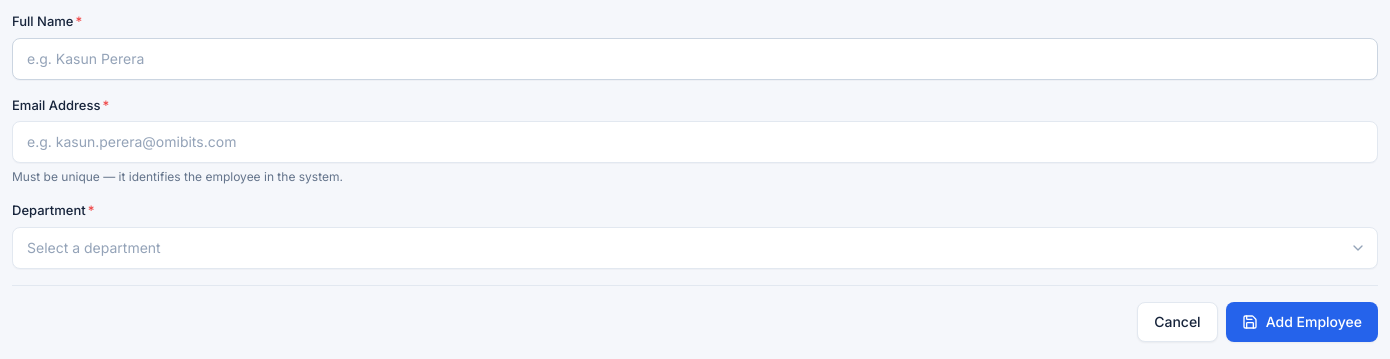
Test: EmployeeForm validation › shows the API error for a duplicate email address
Step 1. Type "Duplicate Person" into the field labelled "Full Name*" → x=695, y=58, box [12,38,1378,80]
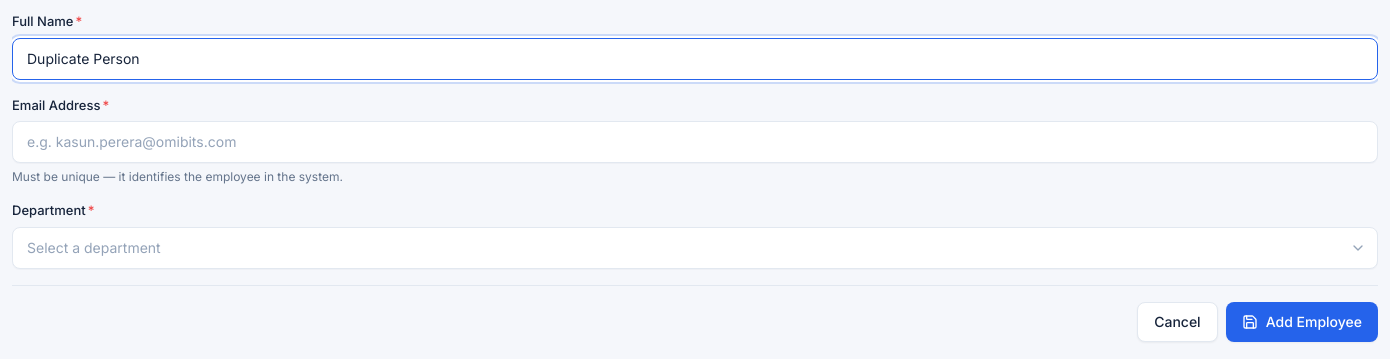
Step 2. Type "dup@example.com" into the field labelled "Email Address*" → x=695, y=142, box [12,121,1378,163]
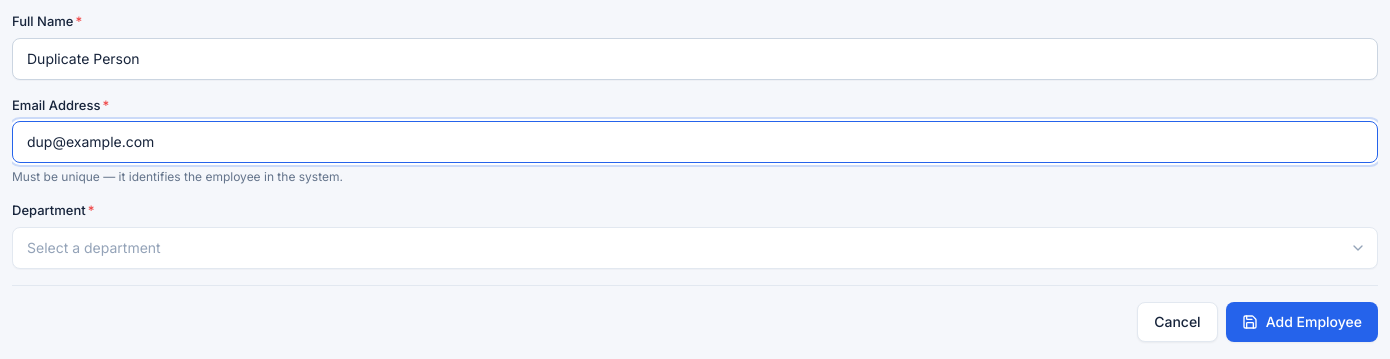
Step 3. Select "IT" in the dropdown labelled "Department*" → x=695, y=248, box [12,226,1378,268]
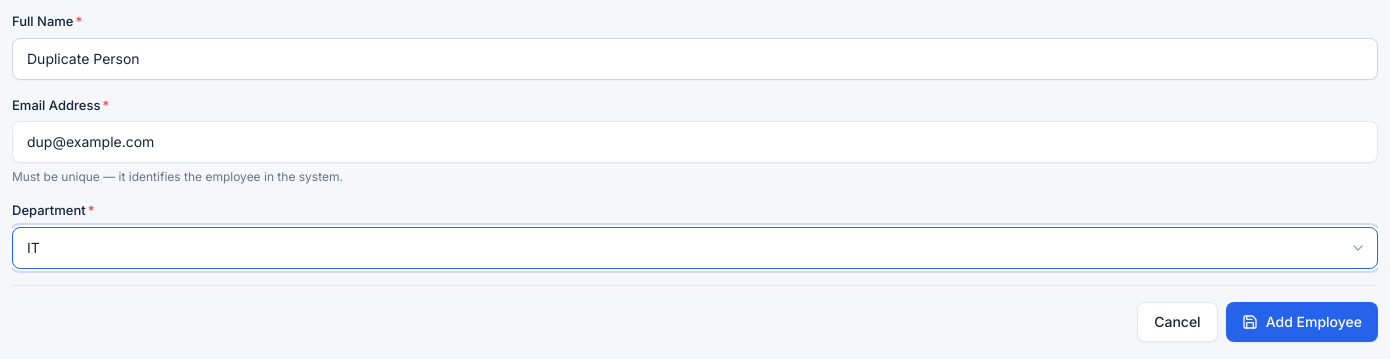
Step 4. Click the button "Add Employee" → x=1302, y=322, box [1226,302,1378,342]
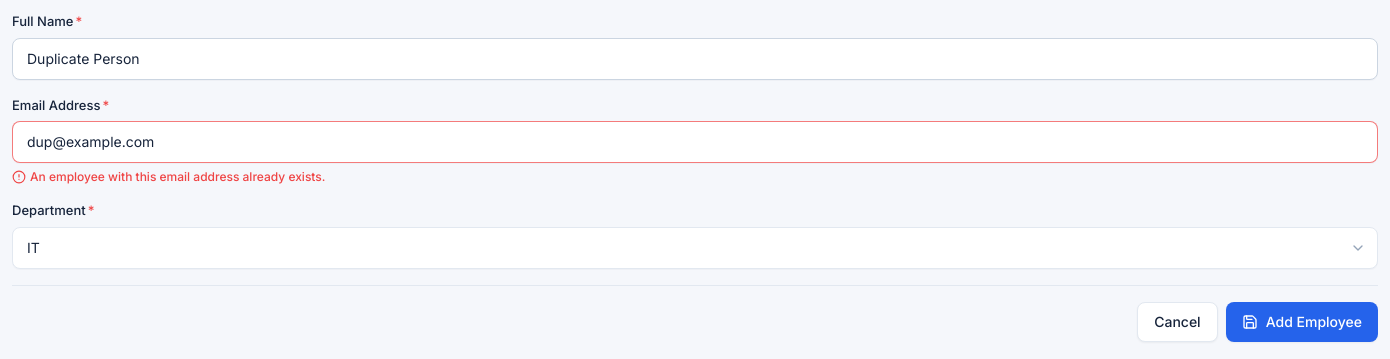
Result: the text "An employee with this email address already exists." is shown at [12,169,325,184]
